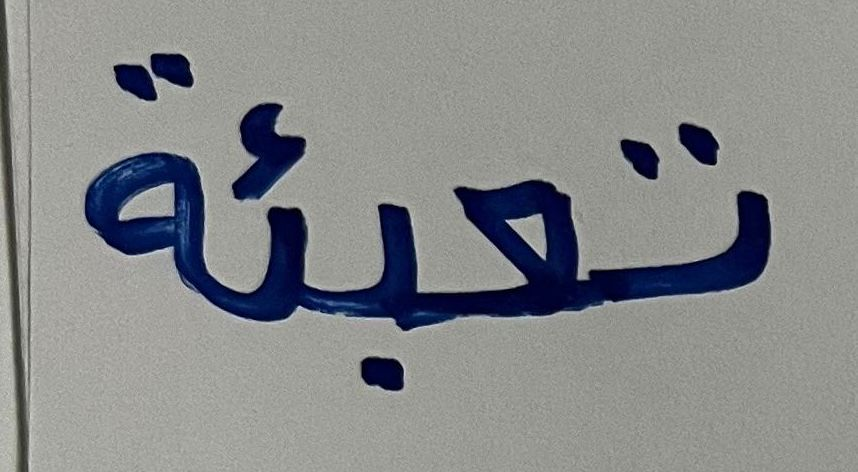ain: (435, 78, 587, 358)
beh: (317, 139, 430, 405)
hamza: (214, 76, 312, 384)
teh: (593, 80, 796, 385)
teh_marbota: (52, 33, 211, 360)
